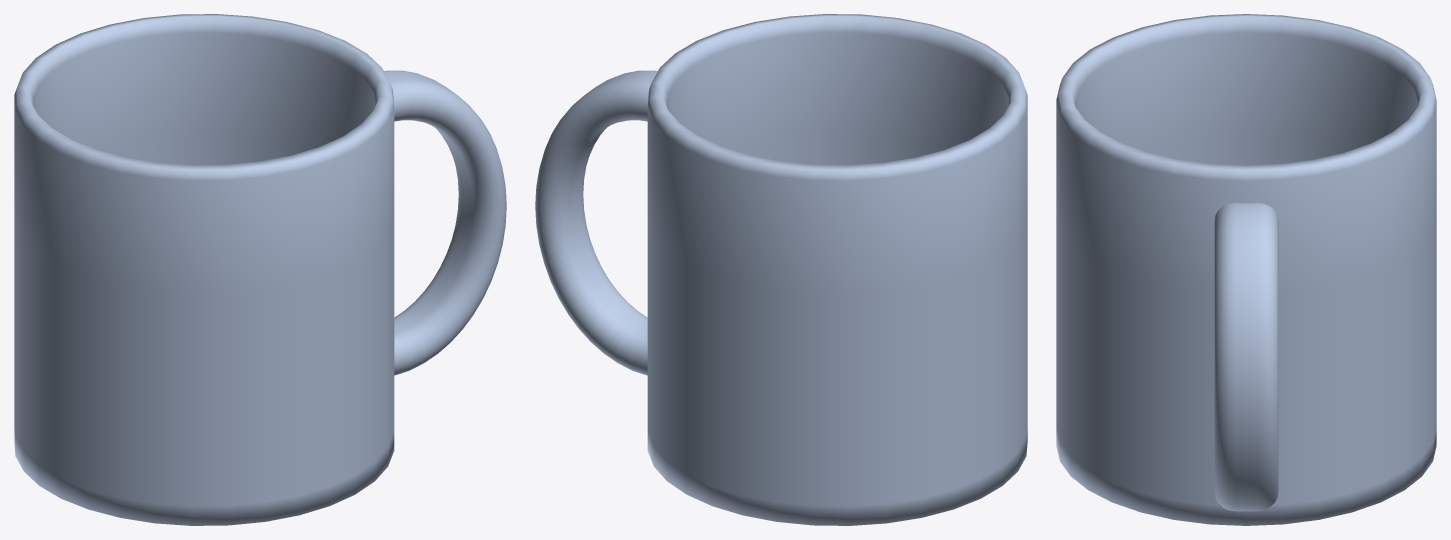
The model's file is kruzezila.glb.
3 views of the same model, side by side, from view 1: azimuth 30°, elevation 25°; view 2: azimuth 150°, elevation 25°; view 3: azimuth 270°, elevation 25° (orthographic).
Visible parts, largest first — view 1: Cylinder; view 2: Cylinder; view 3: Cylinder.
Part boxes in pixels (x1=…): Cylinder: x1=14, y1=14, x2=506, y2=525; Cylinder: x1=535, y1=14, x2=1027, y2=525; Cylinder: x1=1056, y1=14, x2=1436, y2=525.
Bounding box in the file's own units: 4.63 × 3.42 × 3.33.
